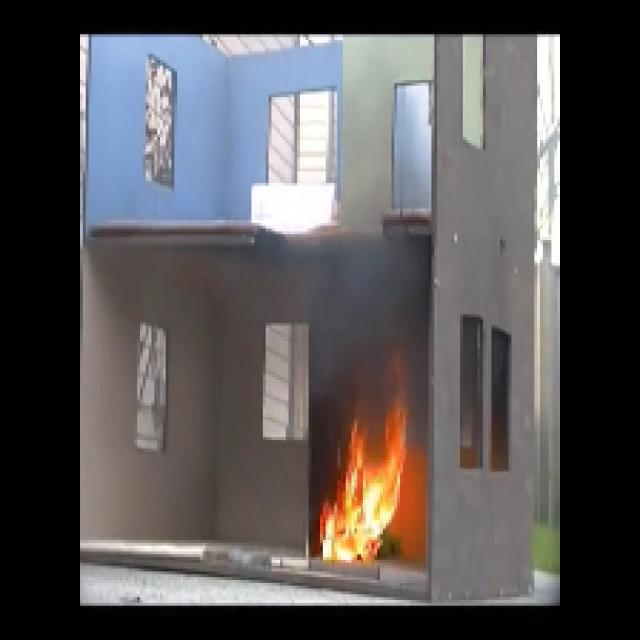Fire: (322, 424, 403, 554)
Smoke: (324, 245, 420, 338)
